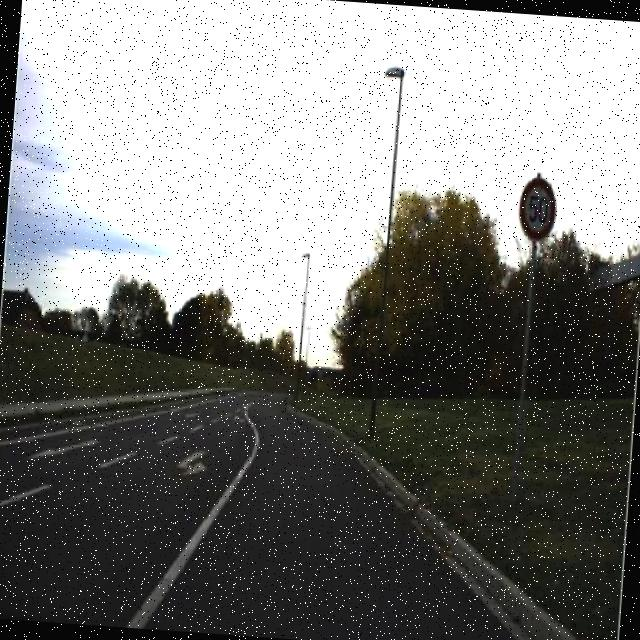Ograniczenie predkosci do 50: (516, 174, 558, 244)
